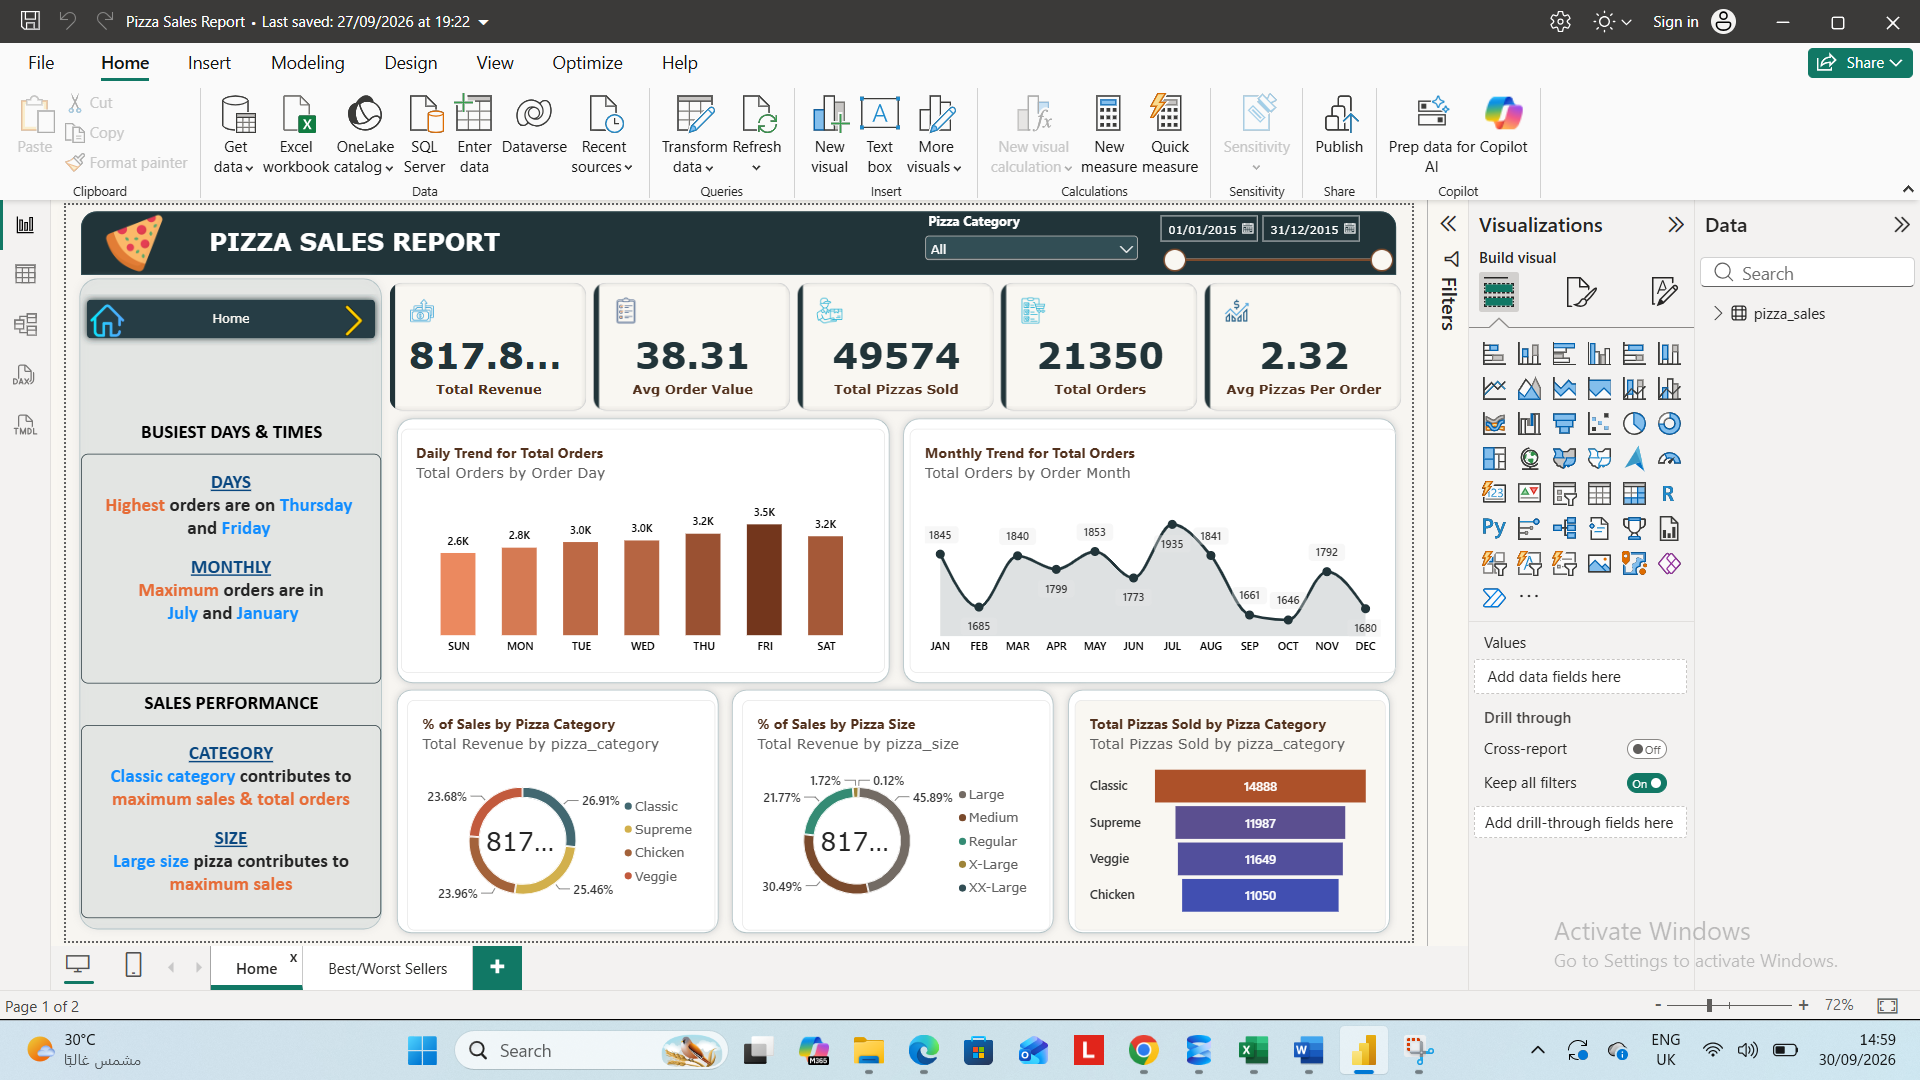

This screenshot's page, from the dashboard's own definition file:
{"tool":"powerbi","page":{"name":"Home","canvas":[1500,820],"ordinal":0},"visuals":[{"type":"cardVisual","fields":{"Data":["pizza_sales.Total Revenue","pizza_sales.Avg Order Value","pizza_sales.Total Pizzas Sold","pizza_sales.Total Orders","pizza_sales.Avg Pizzas Per Order"]},"box":[360.4,86.1,1129.7,143.1],"z":0},{"type":"shape","box":[17.2,7.5,1465.4,71],"z":1000},{"type":"textbox","box":[149,7,345.4,51.5],"z":2000},{"type":"image","box":[26.5,9.7,99,65.6],"z":4000},{"type":"shape","box":[360.4,230.2,564.9,310.9],"z":5000},{"type":"columnChart","title":"Daily Trend for Total Orders","fields":{"Category":["pizza_sales.Order Day"],"Y":["pizza_sales.Total Orders"]},"box":[373.3,249.6,539,272.2],"z":6000},{"type":"shape","box":[925.3,229.2,564.9,310.9],"z":7000},{"type":"areaChart","title":"Monthly Trend for Total Orders","fields":{"Category":["pizza_sales.Order Month"],"Y":["pizza_sales.Total Orders"]},"box":[940.4,249.6,542.3,272.2],"z":8000},{"type":"shape","box":[360.4,532.6,374.4,287.3],"z":9000},{"type":"shape","box":[733.8,532.6,374.4,287.3],"z":10000},{"type":"shape","box":[1108.2,532.6,374.4,287.3],"z":11000},{"type":"donutChart","title":"% of Sales by Pizza Category","fields":{"Category":["pizza_sales.pizza_category"],"Y":["pizza_sales.Total Revenue"]},"box":[380.9,551.9,343.2,257.1],"z":12000},{"type":"donutChart","title":"% of Sales by Pizza Size","fields":{"Category":["pizza_sales.pizza_size"],"Y":["pizza_sales.Total Revenue"]},"box":[753.1,551.9,343.2,257.1],"z":13000},{"type":"funnel","title":"Total Pizzas Sold by Pizza Category","fields":{"Category":["pizza_sales.pizza_category"],"Y":["pizza_sales.Total Pizzas Sold"]},"box":[1123.3,551.9,346.4,257.1],"z":14000},{"type":"shape","box":[7.5,73.2,352.9,741.3],"z":15000},{"type":"textbox","box":[17.2,276.5,334.6,256.1],"z":16000},{"type":"textbox","box":[17.2,578.8,334.6,215.2],"z":17000},{"type":"textbox","box":[17.2,541.2,335.7,37.7],"z":18000},{"type":"textbox","box":[16.1,238.9,335.7,37.7],"z":19000},{"type":"slicer","fields":{"Values":["pizza_sales.pizza_category"]},"box":[952.2,7.5,246.4,71],"z":20000},{"type":"slicer","fields":{"Values":["pizza_sales.order_date"]},"box":[1211.6,7,270.2,71],"z":21000},{"type":"pageNavigator","box":[15.3,97.5,337,59.9],"z":22000},{"type":"image","box":[303.6,110,34.2,37.9],"z":24000},{"type":"image","box":[26.5,110,39.1,37.9],"z":25000}]}

Visuals, with their boxes on the page's 1500x820 design canvas (x1, y1, x2, y2). These are canvas units, not pixel positions in the 1920x1080 screenshot, which may show the page scaled, cropped or inside an application window:
cardVisual - pizza_sales.Total Revenue x pizza_sales.Avg Order Value: <box>360,86,1490,229</box>
shape: <box>17,8,1483,78</box>
textbox: <box>149,7,494,58</box>
image: <box>26,10,126,75</box>
shape: <box>360,230,925,541</box>
"Daily Trend for Total Orders" columnChart: <box>373,250,912,522</box>
shape: <box>925,229,1490,540</box>
"Monthly Trend for Total Orders" areaChart: <box>940,250,1483,522</box>
shape: <box>360,533,735,820</box>
shape: <box>734,533,1108,820</box>
shape: <box>1108,533,1483,820</box>
"% of Sales by Pizza Category" donutChart: <box>381,552,724,809</box>
"% of Sales by Pizza Size" donutChart: <box>753,552,1096,809</box>
"Total Pizzas Sold by Pizza Category" funnel: <box>1123,552,1470,809</box>
shape: <box>8,73,360,814</box>
textbox: <box>17,276,352,533</box>
textbox: <box>17,579,352,794</box>
textbox: <box>17,541,353,579</box>
textbox: <box>16,239,352,277</box>
slicer - pizza_sales.pizza_category: <box>952,8,1199,78</box>
slicer - pizza_sales.order_date: <box>1212,7,1482,78</box>
pageNavigator: <box>15,98,352,157</box>
image: <box>304,110,338,148</box>
image: <box>26,110,66,148</box>
